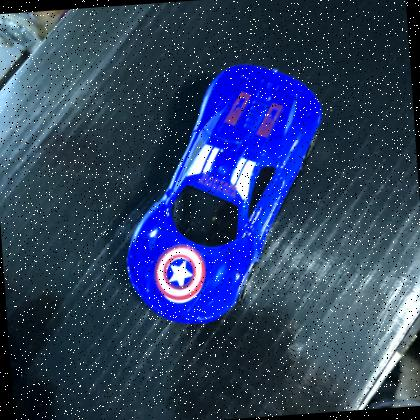Car: (106, 49, 346, 336)
